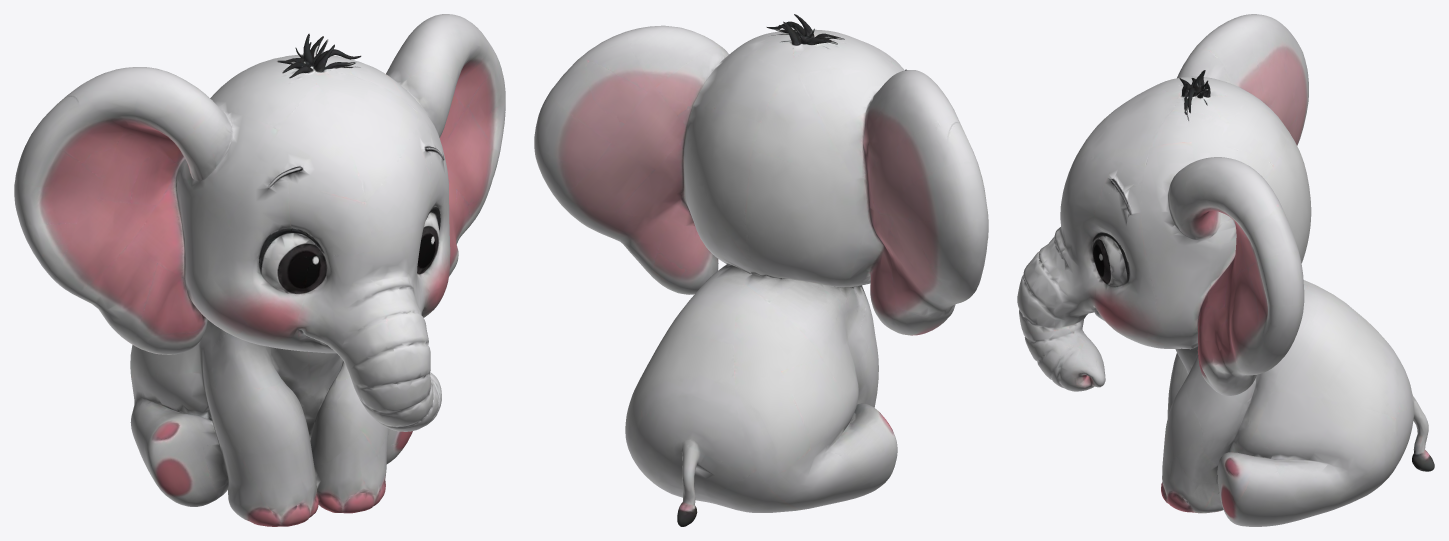
The model's file is elephant-c.glb.
3 renders of one model, left to right at view 1: azimuth 30°, elevation 25°; view 2: azimuth 150°, elevation 25°; view 3: azimuth 270°, elevation 25°, orthographic. The views are drawn at different scales.
Bounding box in the file's own units: 1.9 × 1.77 × 1.61.
1 material, 1 textured.
